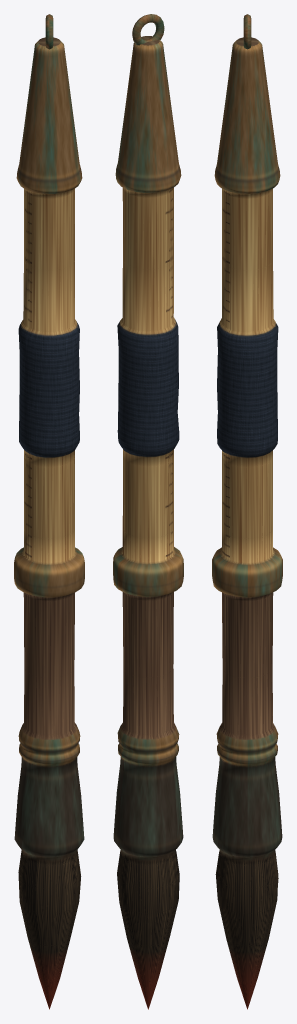
File: MoGuiPen_LOD0.glb
3 renders of one model, left to right at view 1: azimuth 90°, elevation 25°; view 2: azimuth 210°, elevation 25°; view 3: azimuth 270°, elevation 25°, orthographic.
Visible parts, largest first — view 1: MoGuiPen_LOD0; view 2: MoGuiPen_LOD0; view 3: MoGuiPen_LOD0.
Boxes of the visible parts, bbox=[...] form: MoGuiPen_LOD0: bbox=[14, 14, 84, 1009]; MoGuiPen_LOD0: bbox=[113, 14, 183, 1009]; MoGuiPen_LOD0: bbox=[212, 14, 282, 1009].
Bounding box in the file's own units: 0.0157 × 0.2438 × 0.0157.
1 material, 1 textured.
